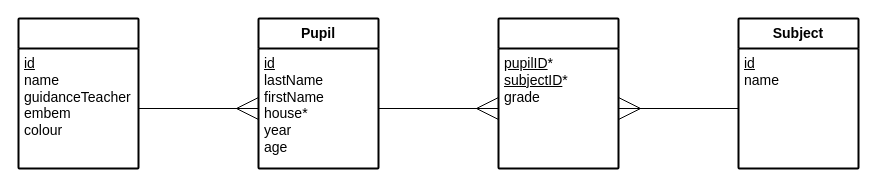
Image size: 876x194. Some labels were removed from this diagram. Here are the shapes that lost their labels. From the top down, the box of each, then its label:
(17, 17, 139, 169): House
(497, 17, 619, 169): Result
